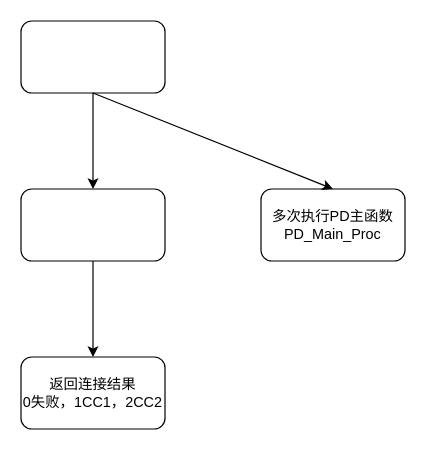
This 426x450 diagram has some shape labels left out. The box of each missing label's shape, as (x1, y1, x2, y2) in pixels:
初始化USB-PD 初始化1Khz时钟: (20, 20, 165, 93)
每隔3s检测一次 CC引脚的连接状态: (20, 188, 165, 261)
